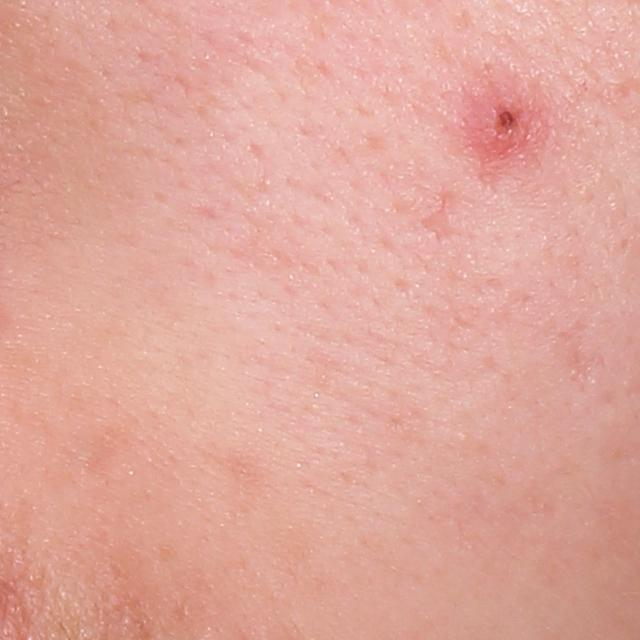atrophic_scar: (420, 191, 454, 247)
papule: (461, 79, 540, 170)
